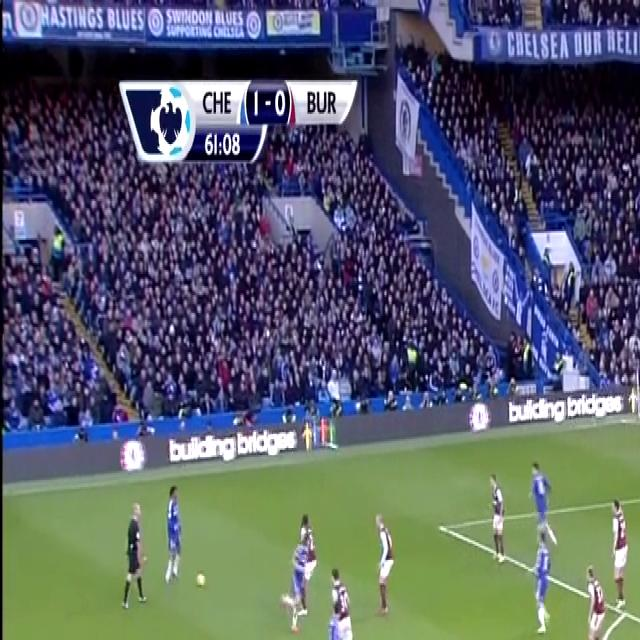ball: (197, 566, 210, 594)
referee: (118, 494, 152, 620)
soccer-player: (279, 504, 317, 631), (306, 565, 362, 640), (368, 502, 400, 622), (529, 519, 559, 640), (158, 474, 187, 592), (608, 487, 635, 608), (484, 466, 511, 575), (529, 454, 559, 552), (577, 556, 608, 640), (136, 636, 189, 640)
